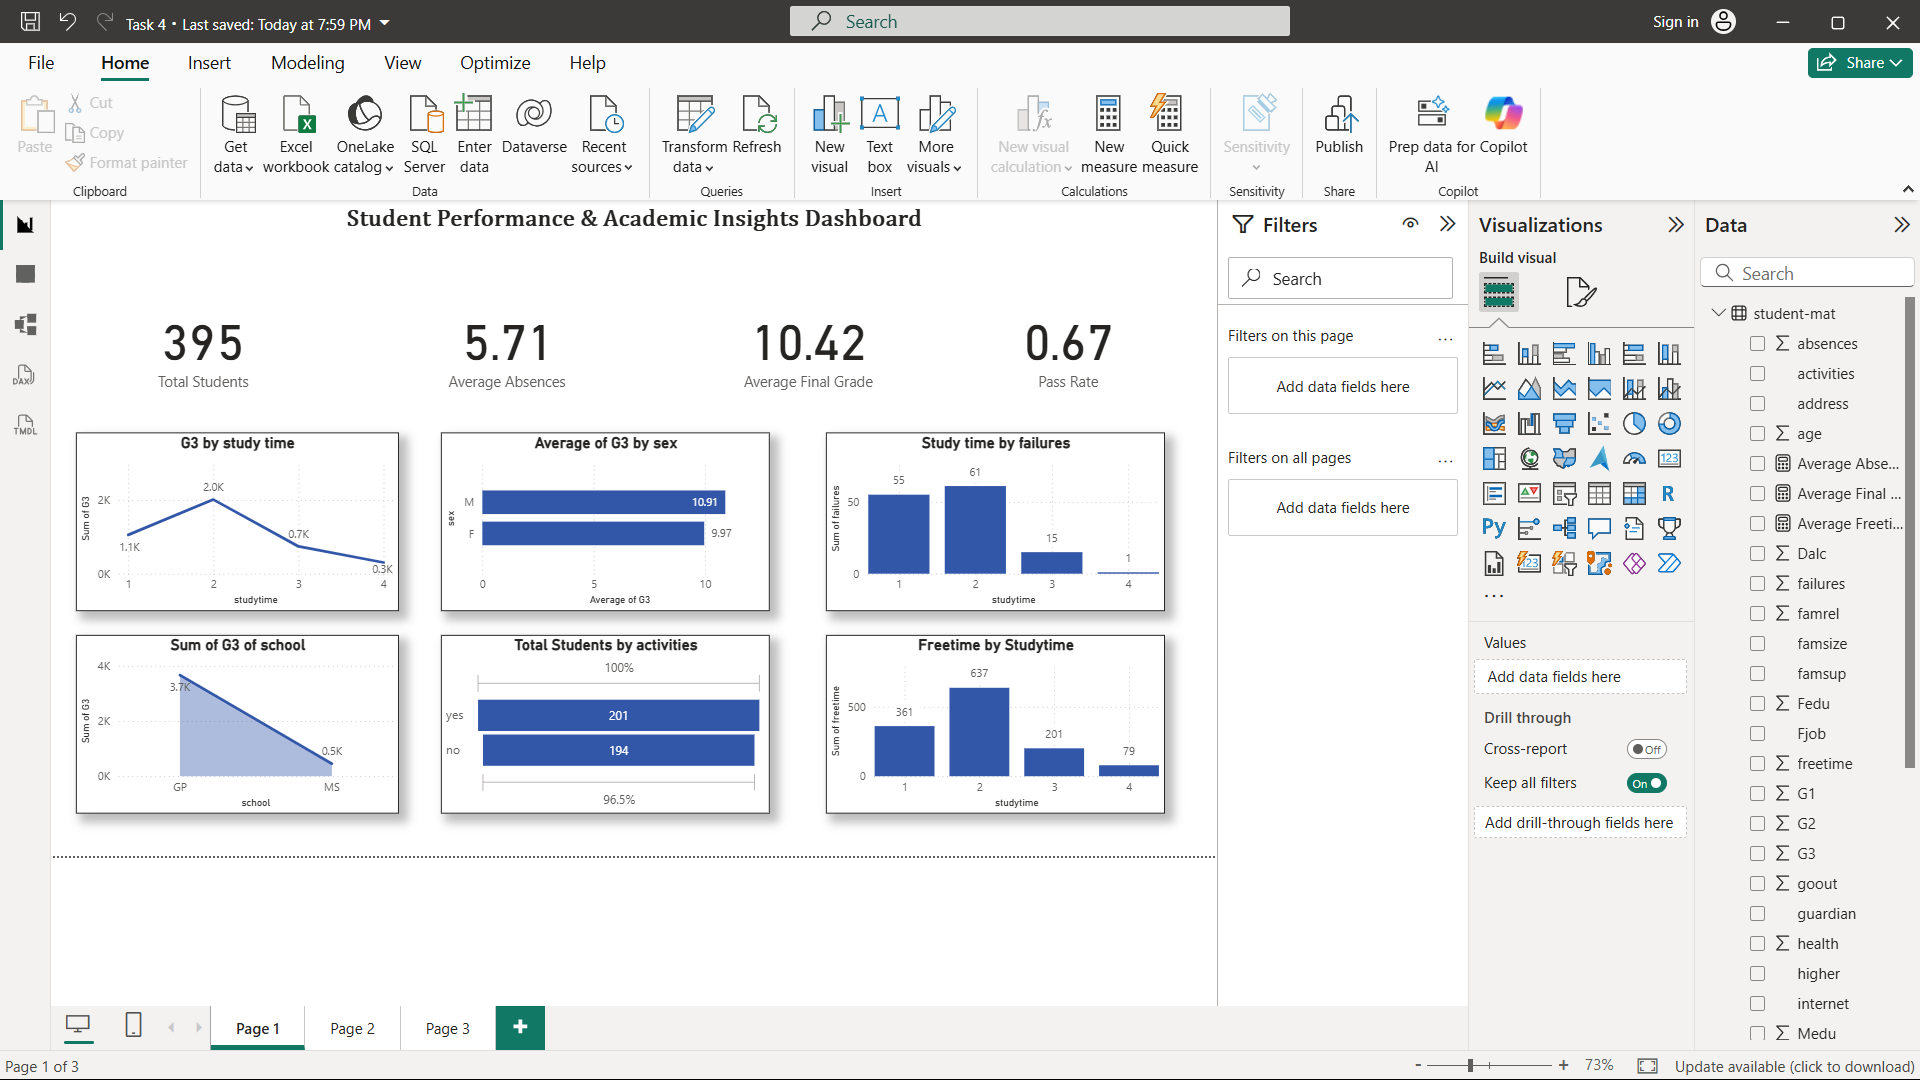

The dashboard page shown, as its layout file describes it:
{"tool":"powerbi","page":{"name":"Page 1","canvas":[1280,720],"ordinal":0},"visuals":[{"type":"card","fields":{"Values":["student-mat.Average Absences"]},"box":[360.9,85.1,279.9,150.9],"z":0},{"type":"card","fields":{"Values":["student-mat.Average Final Grade"]},"box":[691.6,85.1,279.9,150.9],"z":1},{"type":"card","fields":{"Values":["student-mat.Pass Rate"]},"box":[1011.3,85.1,211.3,150.9],"z":2},{"type":"card","fields":{"Values":["student-mat.Total Students"]},"box":[27.4,85.1,279.9,150.9],"z":3},{"type":"textbox","box":[0,0,1280.3,42.5],"z":4},{"type":"lineChart","title":"G3 by study time","fields":{"Y":["Sum(student-mat.G3)"],"Category":["student-mat.studytime"]},"box":[27.4,255.2,354,196.2],"z":5},{"type":"areaChart","title":"Sum of G3 of school","fields":{"Category":["student-mat.school"],"Y":["Sum(student-mat.G3)"]},"box":[27.4,477.5,354,196.2],"z":6},{"type":"clusteredBarChart","fields":{"Category":["student-mat.sex"],"Y":["Avg(student-mat.G3)"]},"box":[428.1,255.2,360.9,196.2],"z":7},{"type":"funnel","fields":{"Category":["student-mat.activities"],"Y":["student-mat.Total Students"]},"box":[428.1,477.5,360.9,196.2],"z":8},{"type":"lineClusteredColumnComboChart","title":"Study time by failures","fields":{"Y":["Sum(student-mat.failures)"],"Category":["student-mat.studytime"]},"box":[850.8,255.2,371.9,196.2],"z":9},{"type":"lineStackedColumnComboChart","title":"Freetime by Studytime","fields":{"Y":["Sum(student-mat.freetime)"],"Category":["student-mat.studytime"]},"box":[850.8,477.5,371.9,196.2],"z":10}]}

Visuals, with their boxes on the page's 1280x720 design canvas (x1, y1, x2, y2). These are canvas units, not pixel positions in the 1920x1080 screenshot, which may show the page scaled, cropped or inside an application window:
card - student-mat.Average Absences: BBox(361, 85, 641, 236)
card - student-mat.Average Final Grade: BBox(692, 85, 972, 236)
card - student-mat.Pass Rate: BBox(1011, 85, 1223, 236)
card - student-mat.Total Students: BBox(27, 85, 307, 236)
textbox: BBox(0, 0, 1280, 42)
"G3 by study time" lineChart: BBox(27, 255, 381, 451)
"Sum of G3 of school" areaChart: BBox(27, 478, 381, 674)
clusteredBarChart - student-mat.sex x Avg(student-mat.G3): BBox(428, 255, 789, 451)
funnel - student-mat.activities x student-mat.Total Students: BBox(428, 478, 789, 674)
"Study time by failures" lineClusteredColumnComboChart: BBox(851, 255, 1223, 451)
"Freetime by Studytime" lineStackedColumnComboChart: BBox(851, 478, 1223, 674)
